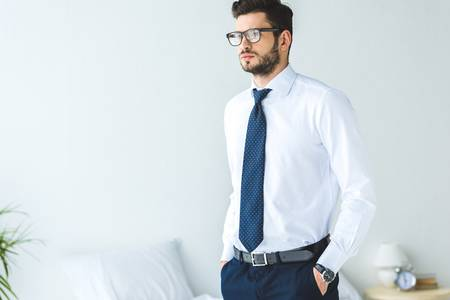F_belt: (239, 249, 313, 272)
F_shirt: (222, 69, 376, 275)
F_tie: (226, 82, 274, 252)
